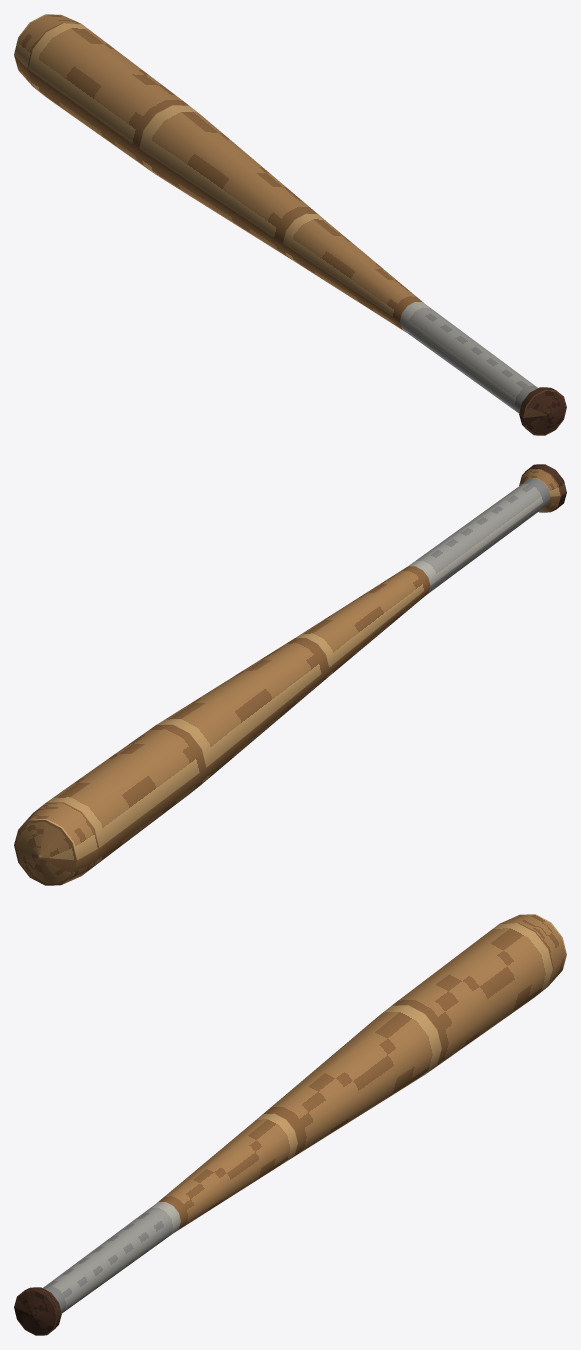
File: INV_BaseballBat.glb
3 views of the same model, one above another, from view 1: azimuth 30°, elevation 25°; view 2: azimuth 150°, elevation 25°; view 3: azimuth 330°, elevation 25° (orthographic).
Visible parts, largest first — view 1: INV_BaseballBat_Mesh; view 2: INV_BaseballBat_Mesh; view 3: INV_BaseballBat_Mesh.
Boxes of the visible parts, box(x1,y1,x2,y2) form: INV_BaseballBat_Mesh: box(14, 14, 566, 435); INV_BaseballBat_Mesh: box(14, 464, 566, 885); INV_BaseballBat_Mesh: box(14, 914, 566, 1335).
Size of what is drawn, in the model's own units: 0.068 by 0.068 by 0.84.
1 material, 1 textured.
